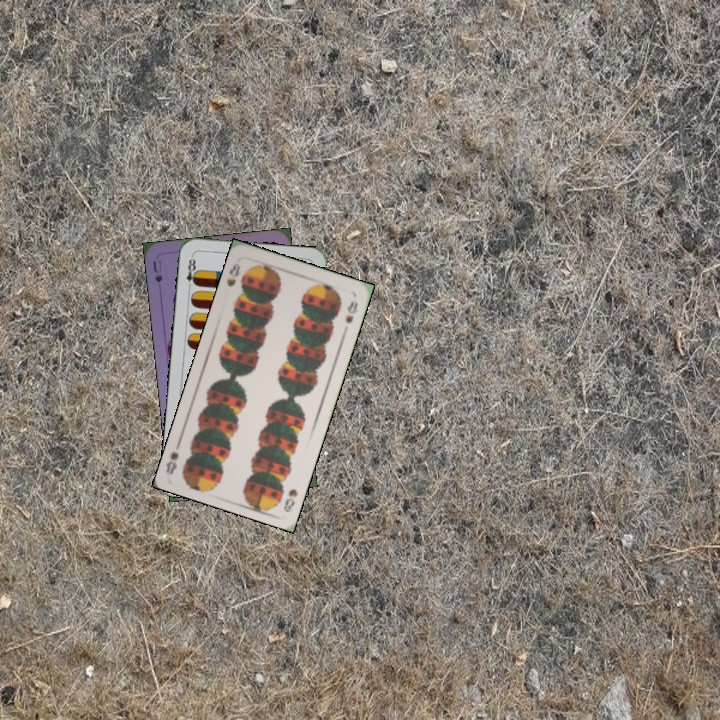E8: (182, 252, 200, 292)
S8: (223, 259, 243, 289), (280, 485, 300, 514)
SU: (149, 256, 165, 285)
